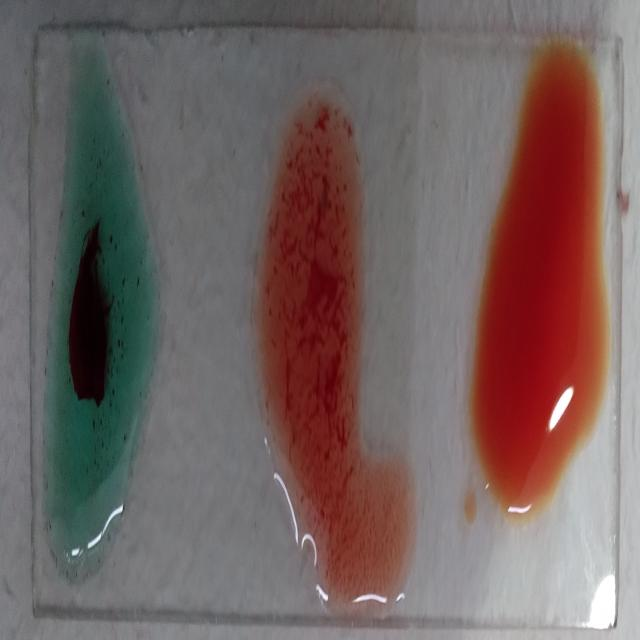A: (42, 66, 150, 568)
D: (256, 105, 393, 613)
